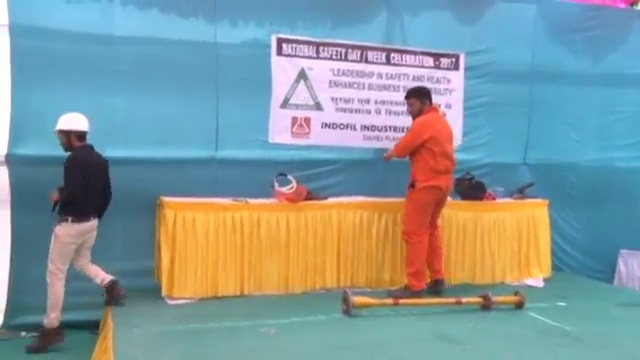helmet: (50, 111, 91, 135)
helmet_off: (404, 86, 437, 119)
helmet_on: (50, 111, 91, 153)
person: (22, 109, 125, 349), (388, 85, 455, 296)
